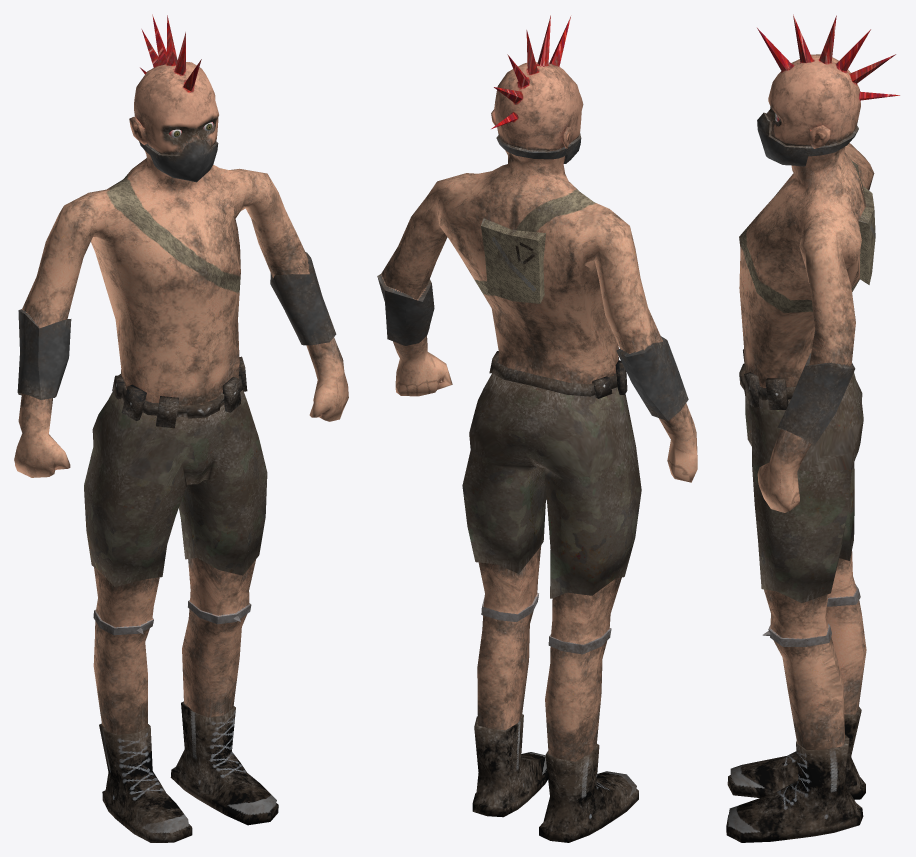
File: Anim_interruptor_npc2.0015.obj
3 renders of one model, left to right at view 1: azimuth 30°, elevation 25°; view 2: azimuth 150°, elevation 25°; view 3: azimuth 270°, elevation 25°, orthographic. The views are drawn at different scales.
Parts seen in each view (by area): view 1: polySurface1; view 2: polySurface1; view 3: polySurface1.
Boxes of the visible parts, box(x1,y1,x2,y2) form: polySurface1: box(14, 14, 348, 842); polySurface1: box(377, 15, 697, 842); polySurface1: box(726, 14, 899, 842).
Size of the model in its own units: 4.31 by 10.19 by 2.03.
Materials: 2 (2 with a texture image).
